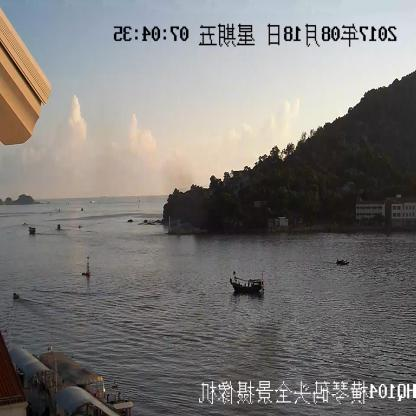Fishing Boat: (230, 270, 264, 295), (335, 260, 348, 266)
